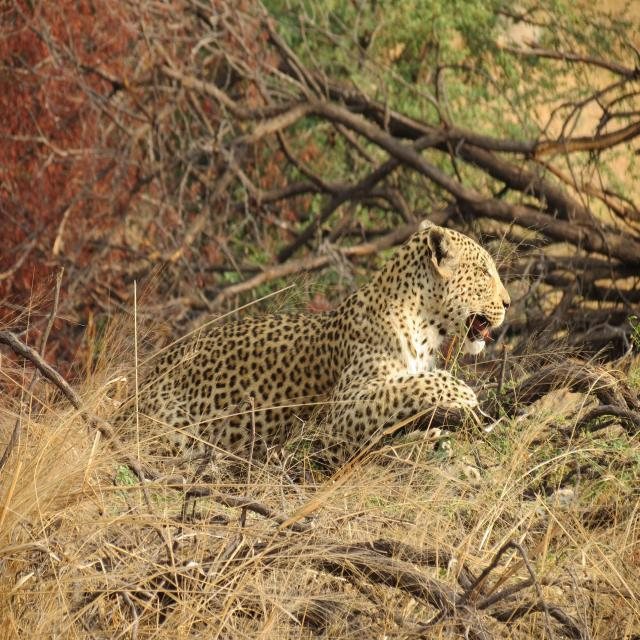Leopard: (99, 218, 508, 472)
